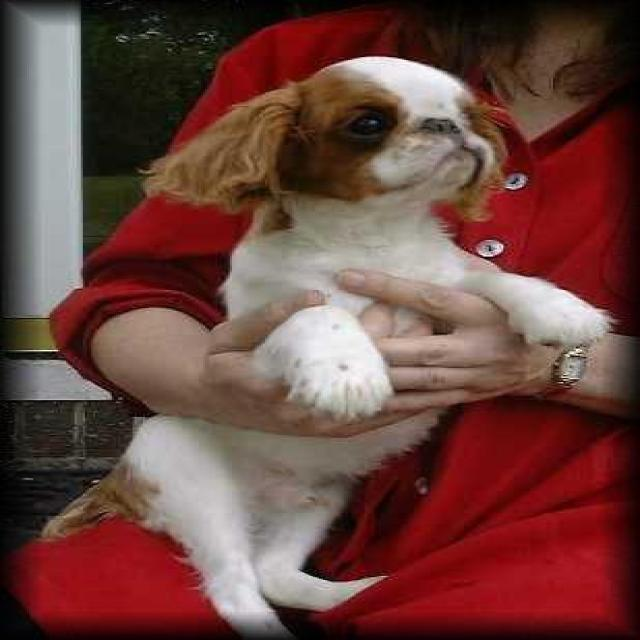blenheim_spaniel: (25, 56, 615, 627)
